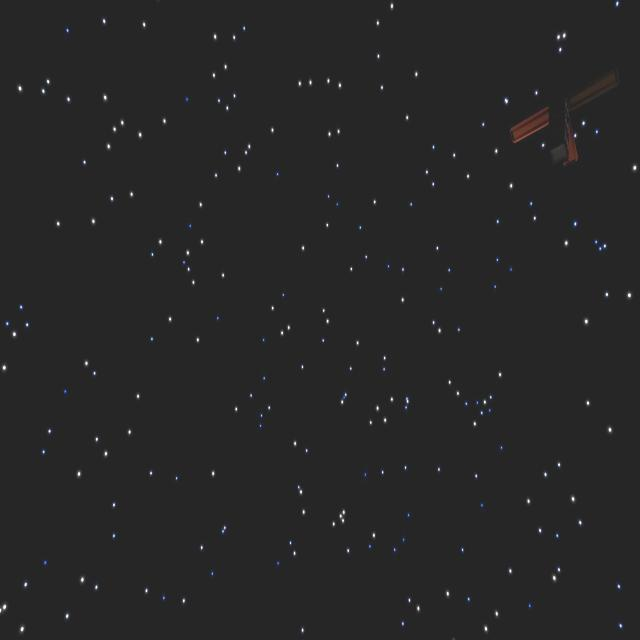medium_debris: (506, 61, 614, 170)
